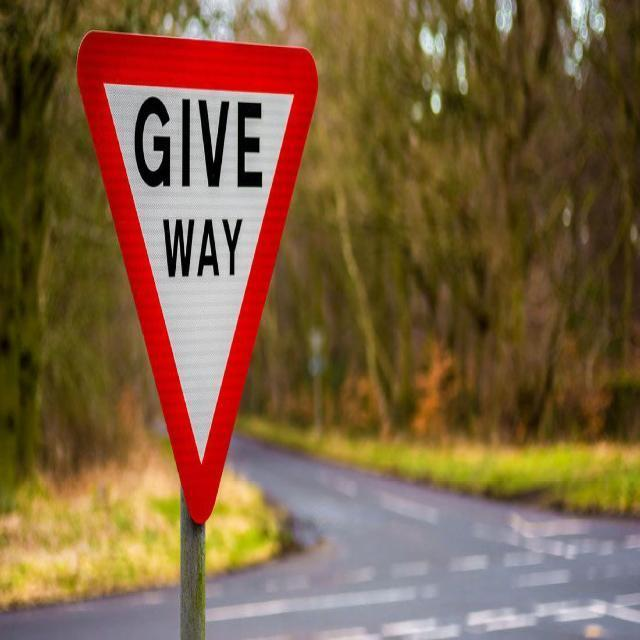give way: (73, 28, 339, 525)
